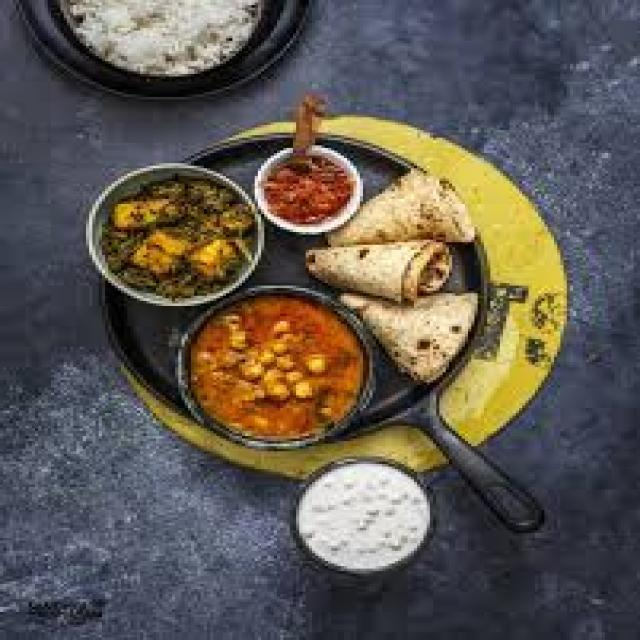papad: (299, 174, 482, 299)
pickle: (248, 143, 367, 231)
raita: (287, 458, 438, 574)
rice: (53, 2, 274, 86)
veg-fry: (161, 283, 382, 449), (104, 168, 257, 299)
